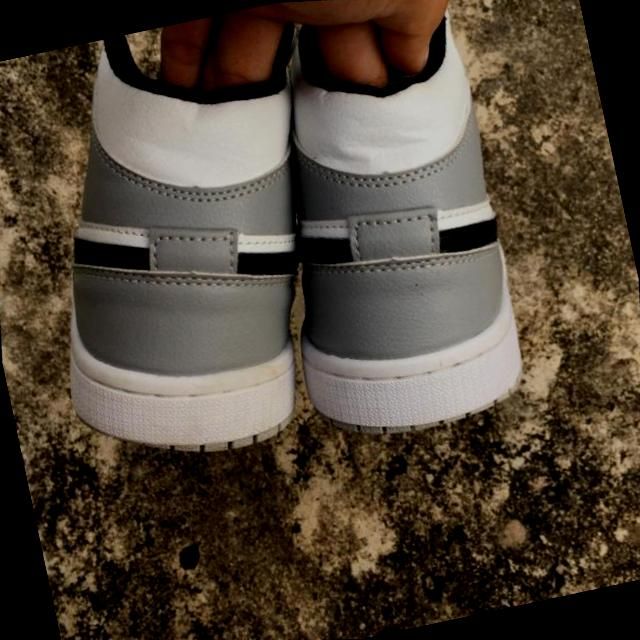nike_fake_jordan: (0, 0, 379, 501), (215, 0, 595, 477)
